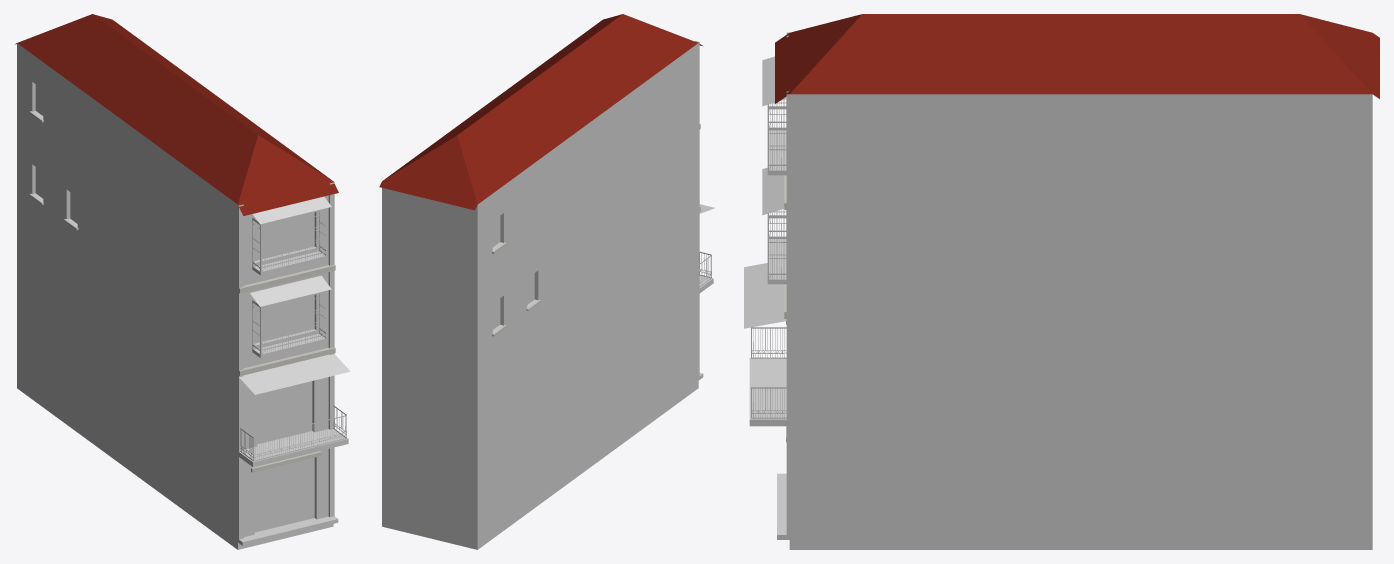
The picture shows the model from 3 angles, left to right: view 1: azimuth 30°, elevation 25°; view 2: azimuth 150°, elevation 25°; view 3: azimuth 270°, elevation 25°; orthographic projection. The views are drawn at different scales.
Parts seen in each view (by area): view 1: TH_D16_L_12_LOD0; view 2: TH_D16_L_12_LOD0; view 3: TH_D16_L_12_LOD0.
Boxes of the visible parts, x1,y1,x2,y2 form: TH_D16_L_12_LOD0: [15, 14, 350, 549]; TH_D16_L_12_LOD0: [379, 14, 714, 549]; TH_D16_L_12_LOD0: [744, 14, 1379, 549].
Size of what is drawn, in the model's own units: 4.08 by 15.3 by 17.45.
